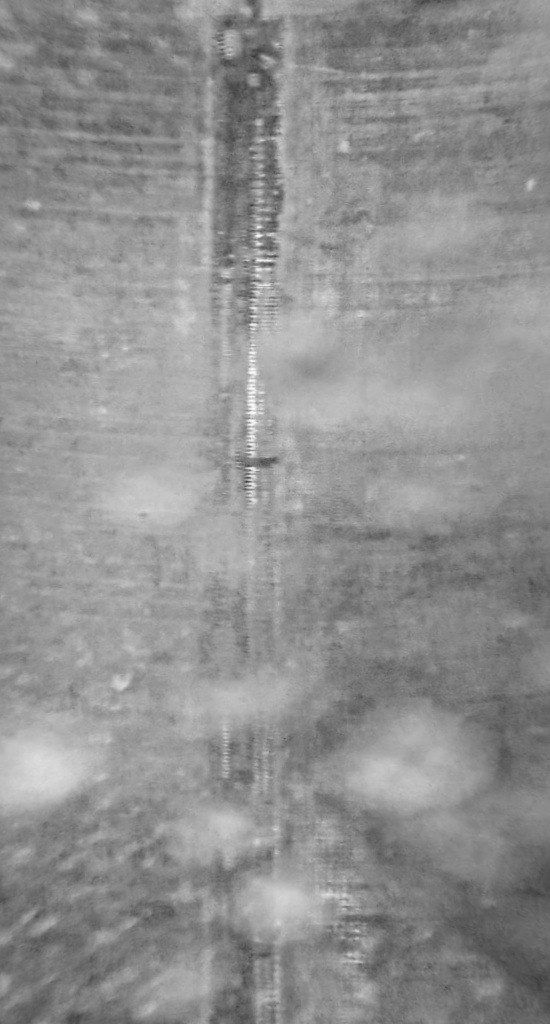splice: (213, 1, 310, 1021)
